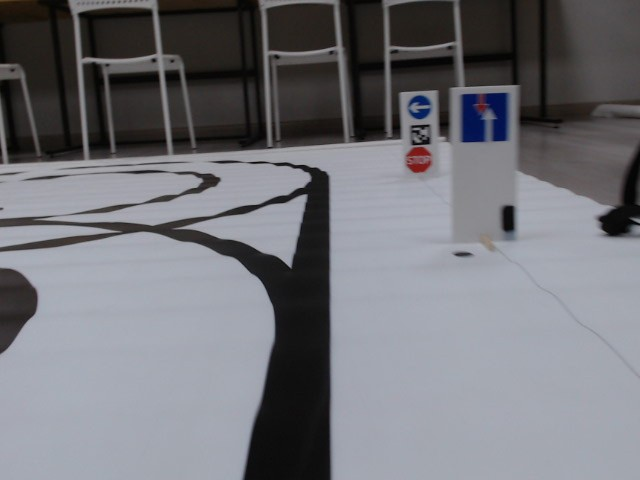Stop: (404, 147, 432, 172)
priority_movement: (458, 90, 512, 146)
